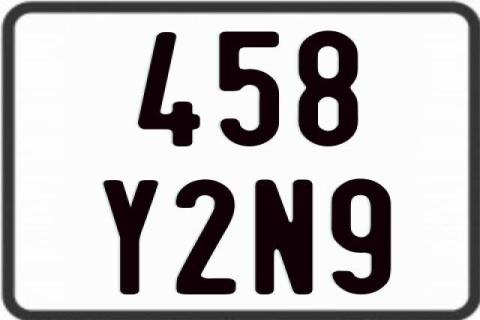0: (173, 178, 239, 298), (135, 32, 201, 150), (328, 178, 392, 298), (298, 30, 362, 146), (216, 31, 277, 151)
N: (252, 180, 315, 296)
Y: (100, 178, 160, 292)
